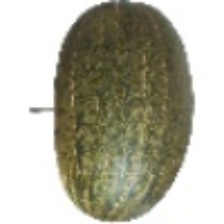honeydew: (9, 43, 172, 222)
